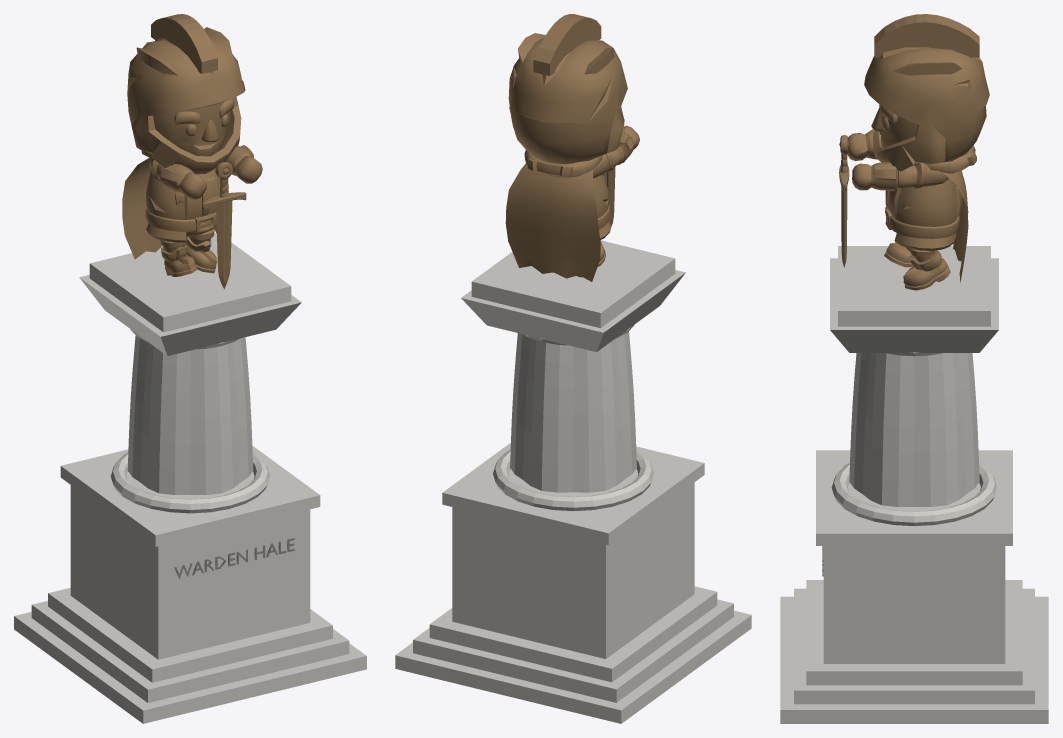
File: wardenHaleStatue.glb
3 views of the same model, side by side, from view 1: azimuth 30°, elevation 25°; view 2: azimuth 150°, elevation 25°; view 3: azimuth 270°, elevation 25° (orthographic). The views are drawn at different scales.
Parts seen in each view (by area): view 1: Dado, Shaft, Abacus, Knight_Helmet, DadoCap, Step_0, Step_2, Step_1, Echinus, Knight_Body, BaseMold, Knight_Head (+8 smaller); view 2: Dado, Shaft, Knight_Helmet, Abacus, DadoCap, Knight_Cape, Step_0, Step_2, Step_1, Echinus, BaseMold, Warden_Crest (+2 smaller); view 3: Dado, Shaft, Knight_Helmet, Abacus, DadoCap, Step_0, Step_2, Step_1, Echinus, Knight_Body, BaseMold, Warden_Crest (+7 smaller).
Part boxes in pixels (bbox=[...]): Dado: bbox=[70, 485, 310, 659]; Shaft: bbox=[127, 335, 253, 494]; Abacus: bbox=[89, 232, 291, 332]; Knight_Helmet: bbox=[127, 27, 245, 174]; DadoCap: bbox=[60, 445, 320, 546]; Step_0: bbox=[14, 612, 366, 723]; Step_2: bbox=[48, 587, 332, 682]; Step_1: bbox=[31, 601, 349, 702]; Echinus: bbox=[79, 274, 301, 355]; Knight_Body: bbox=[141, 150, 220, 242]; BaseMold: bbox=[110, 452, 270, 513]; Knight_Head: bbox=[153, 98, 234, 156]; Dado: bbox=[452, 482, 694, 658]; Shaft: bbox=[510, 331, 636, 492]; Knight_Helmet: bbox=[508, 33, 627, 163]; Abacus: bbox=[471, 240, 675, 328]; DadoCap: bbox=[442, 443, 704, 544]; Knight_Cape: bbox=[505, 163, 600, 281]; Step_0: bbox=[395, 610, 751, 723]; Step_2: bbox=[429, 586, 717, 682]; Step_1: bbox=[413, 599, 733, 702]; Echinus: bbox=[461, 270, 685, 352]; BaseMold: bbox=[493, 449, 653, 511]; Warden_Crest: bbox=[533, 14, 601, 75]; Dado: bbox=[823, 546, 1005, 663]; Shaft: bbox=[849, 353, 979, 506]; Knight_Helmet: bbox=[864, 47, 989, 171]; Abacus: bbox=[838, 246, 990, 326]; DadoCap: bbox=[816, 450, 1012, 545]; Step_0: bbox=[780, 596, 1048, 723]; Step_2: bbox=[806, 580, 1022, 685]; Step_1: bbox=[794, 588, 1034, 704]; Echinus: bbox=[830, 258, 998, 352]; Knight_Body: bbox=[885, 145, 976, 250]; BaseMold: bbox=[831, 463, 997, 526]; Warden_Crest: bbox=[874, 14, 979, 57].
Size of the model in its own units: 2.8 by 7.48 by 2.8.
